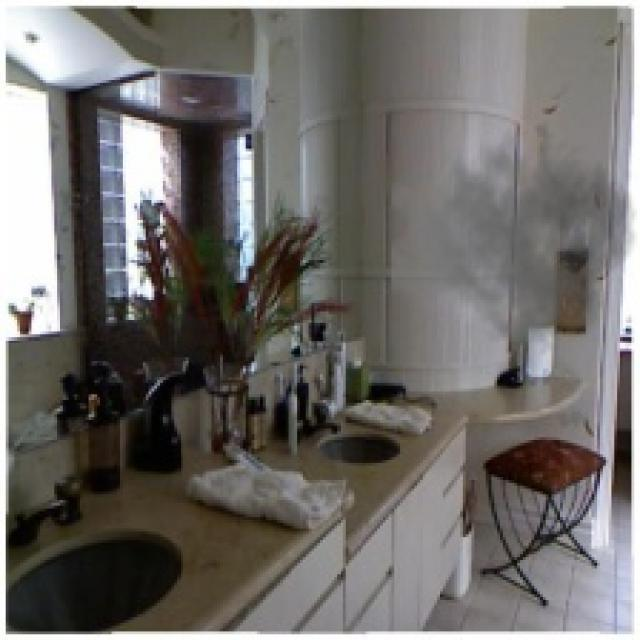Smoke: (392, 117, 637, 354)
